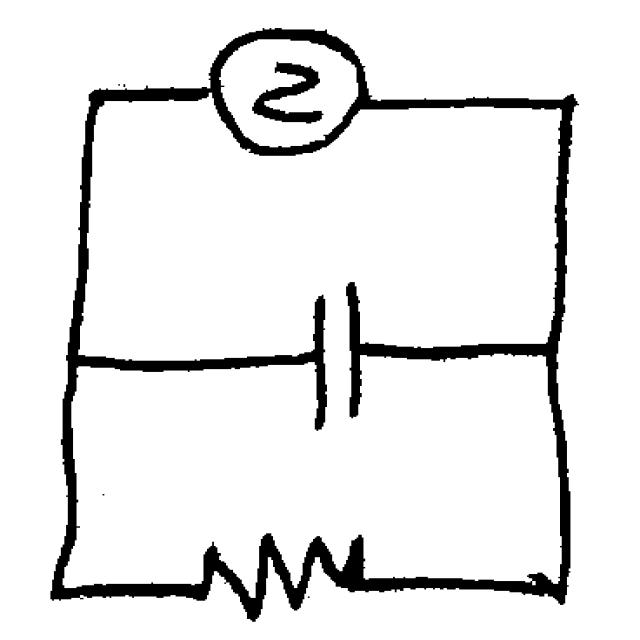ac: (207, 14, 373, 164)
capacitor: (304, 268, 374, 436)
resistor: (190, 520, 385, 626)
